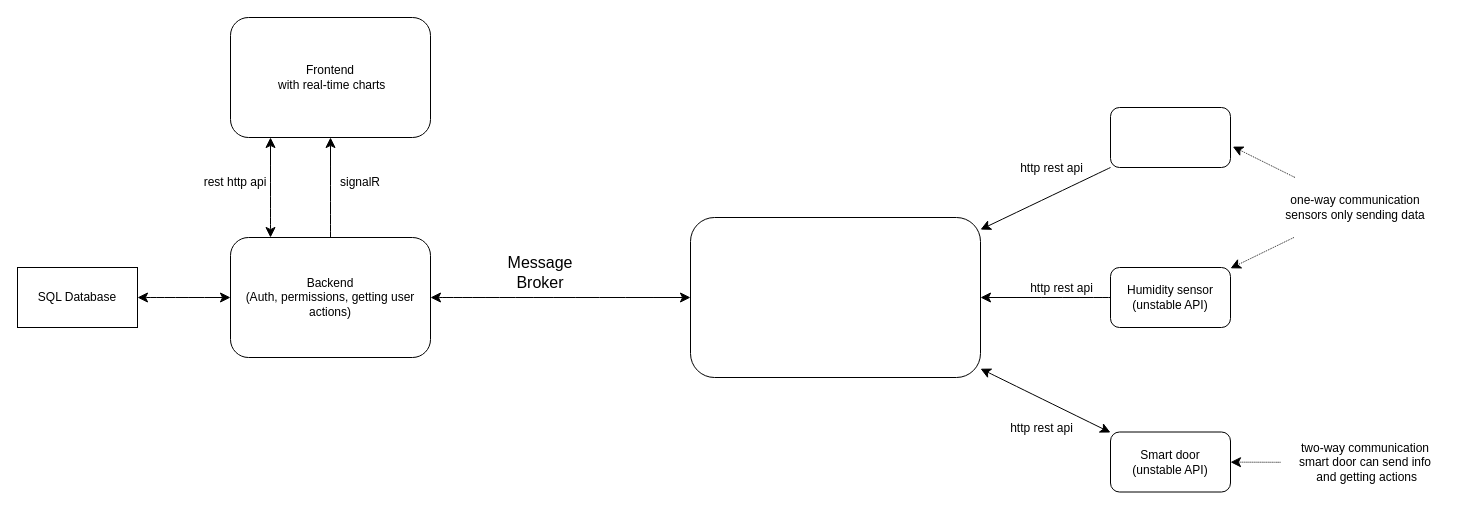
Some shapes in this 1468 by 510 pixel diagram are drawn without their labels. The centre of each missing label's shape, as x and y in pixels:
"IoT Hub" belongs at (x=835, y=297).
"Temperature sensor (stable API )" belongs at (x=1170, y=137).
